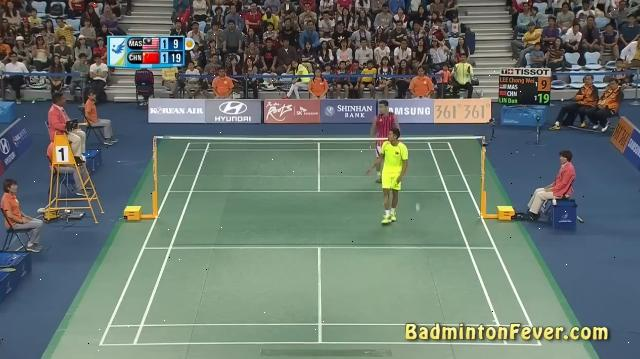Shuttlecock: (413, 202, 423, 214)
